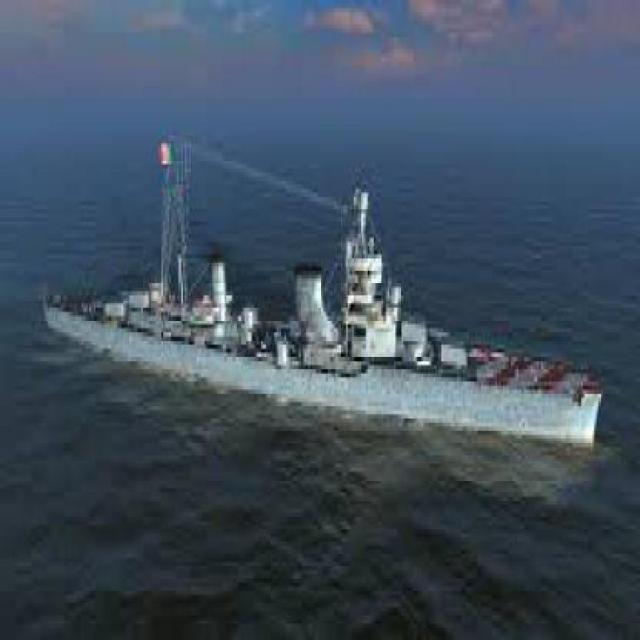warship2: (48, 103, 603, 494)
